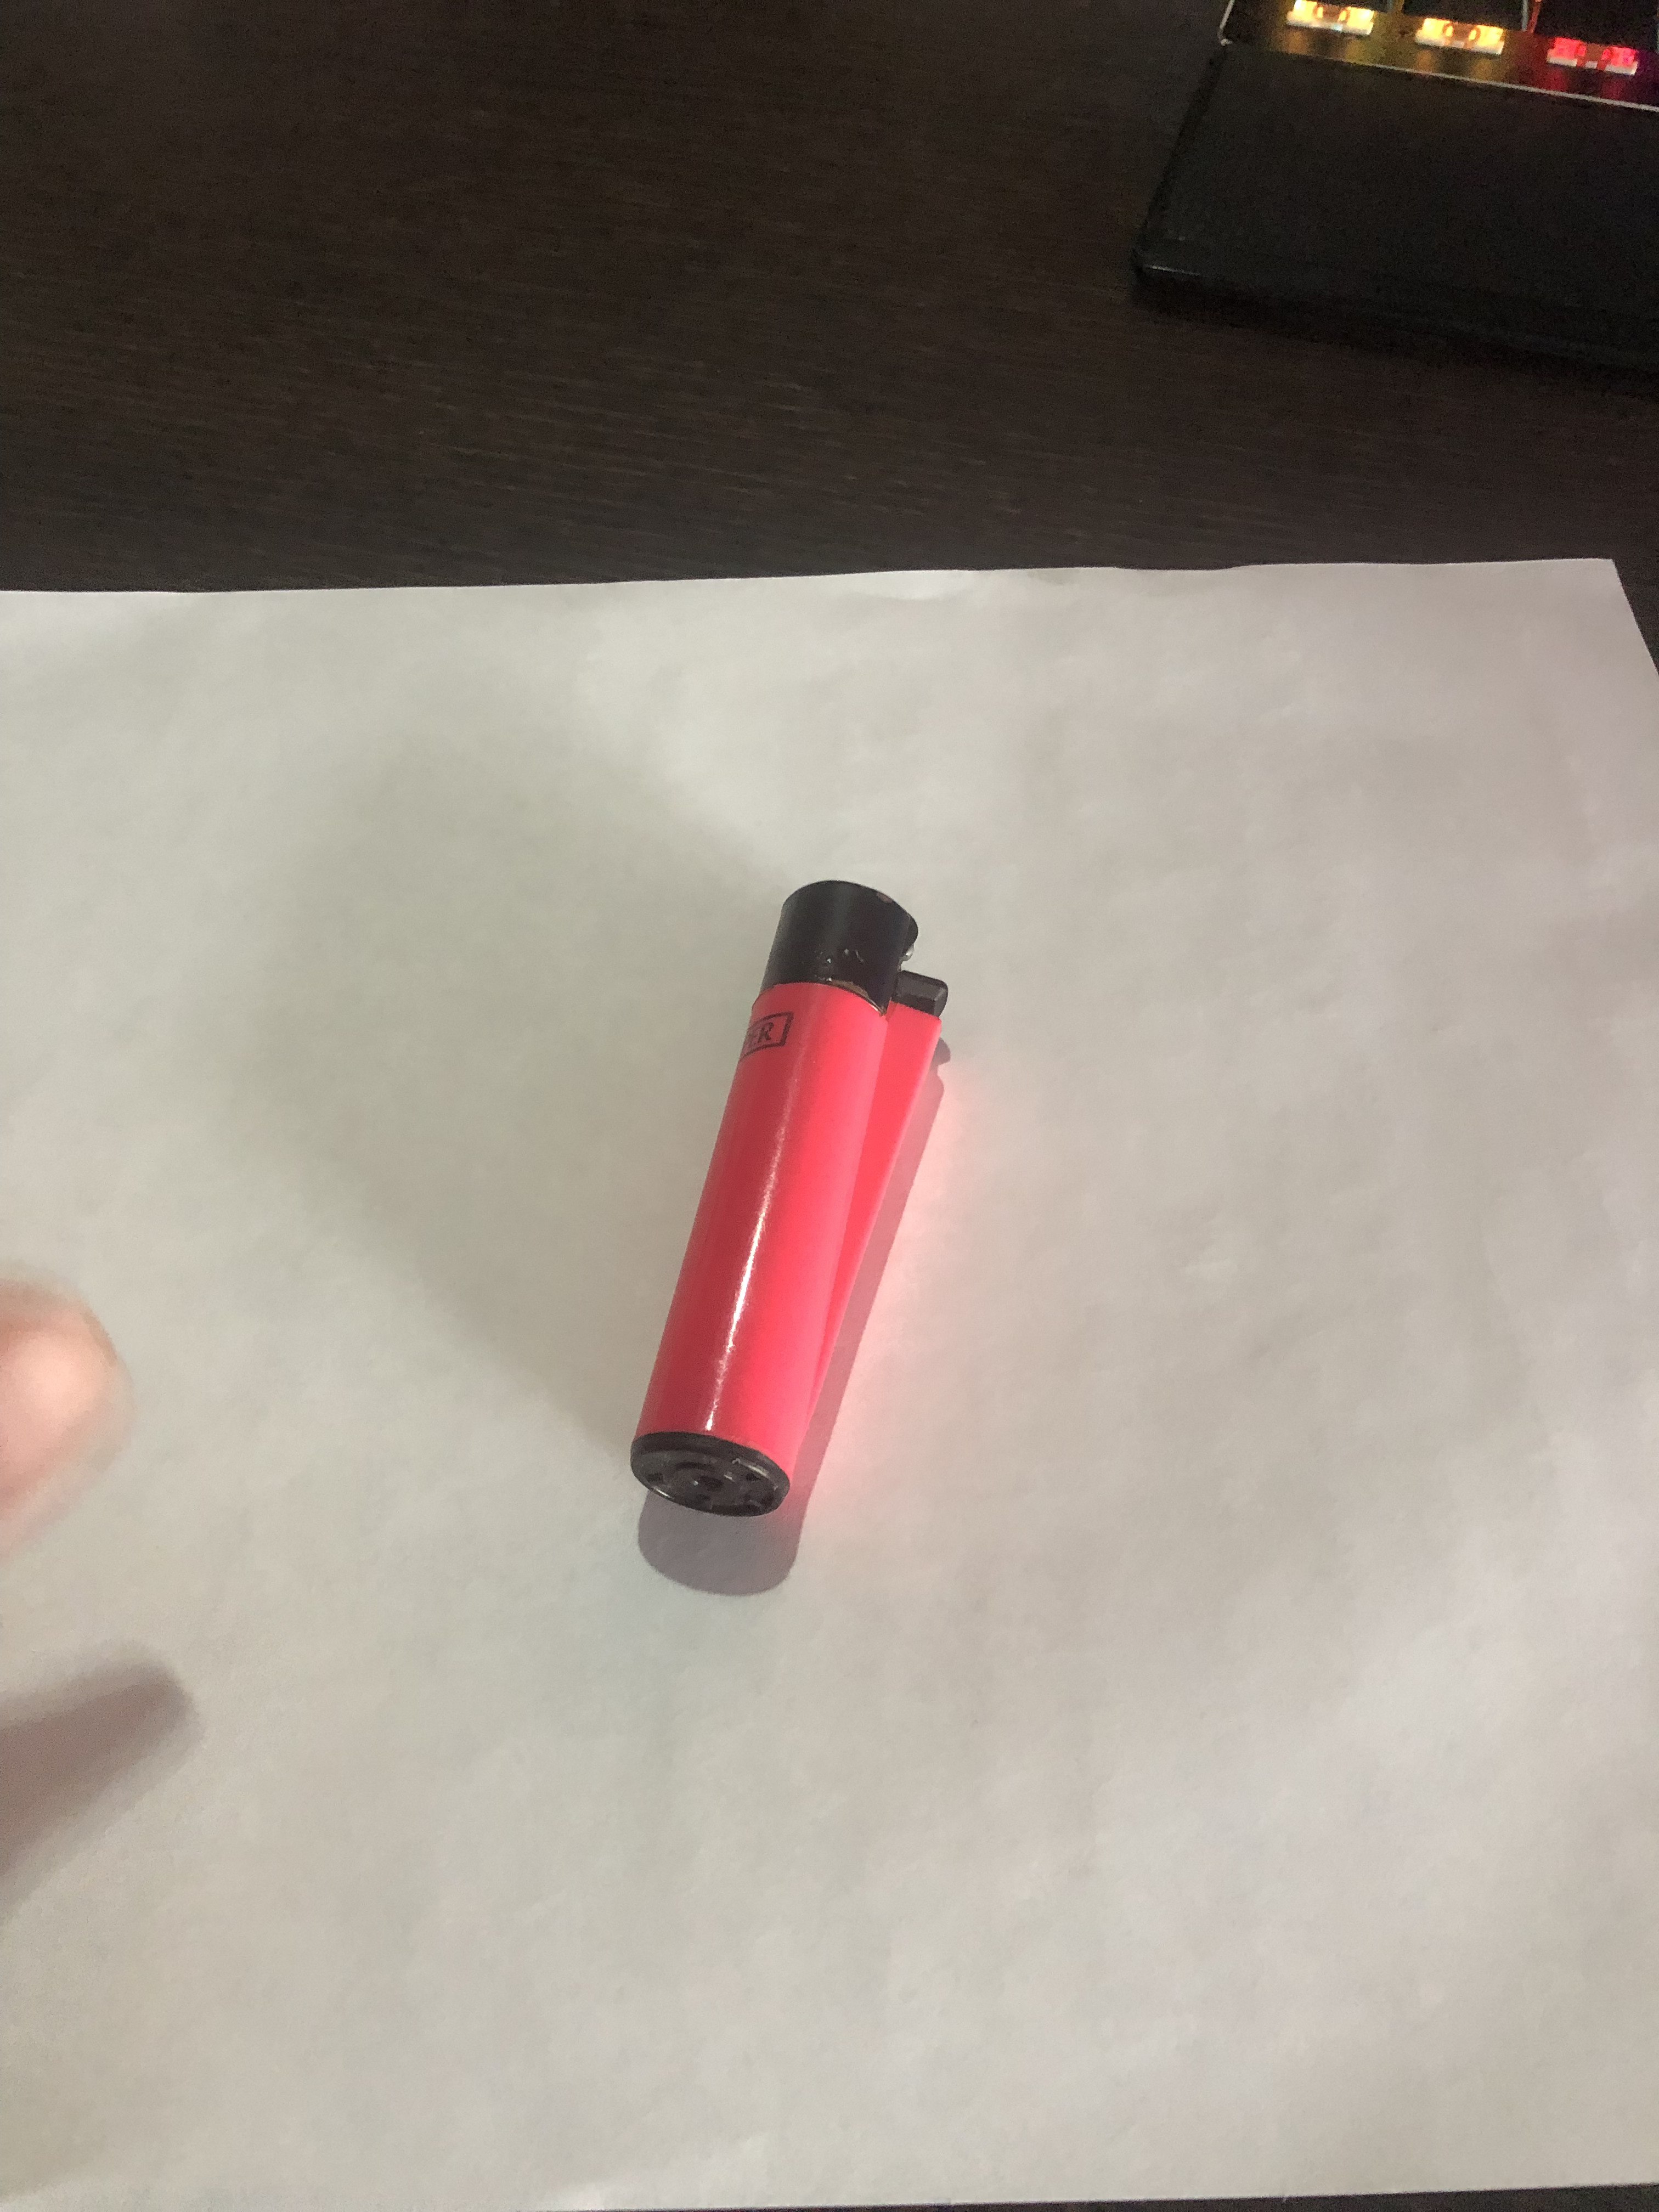Mechero: (525, 838, 1011, 1529)
